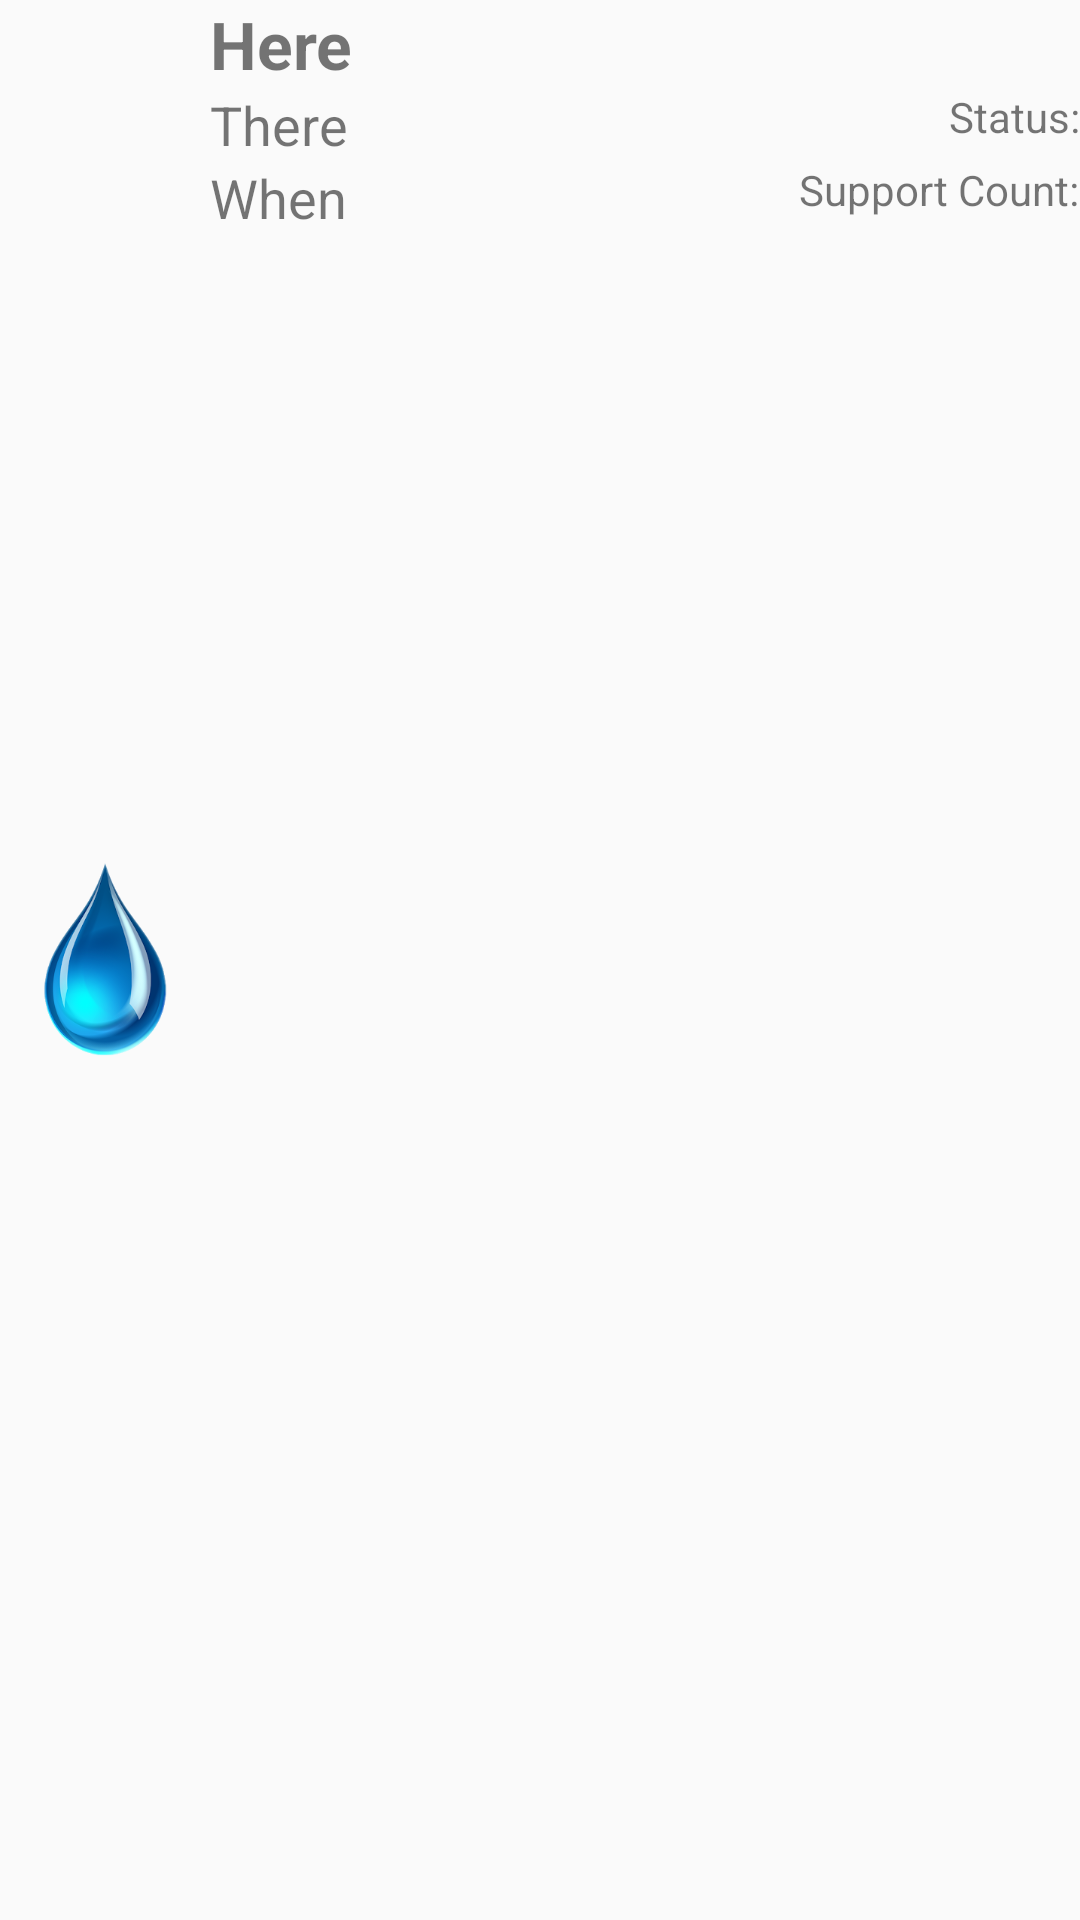

Where icons sit on this 1080w x 1920h app screen, as (x1, y1, x2, y2):
drop: (44, 864, 166, 1055)
